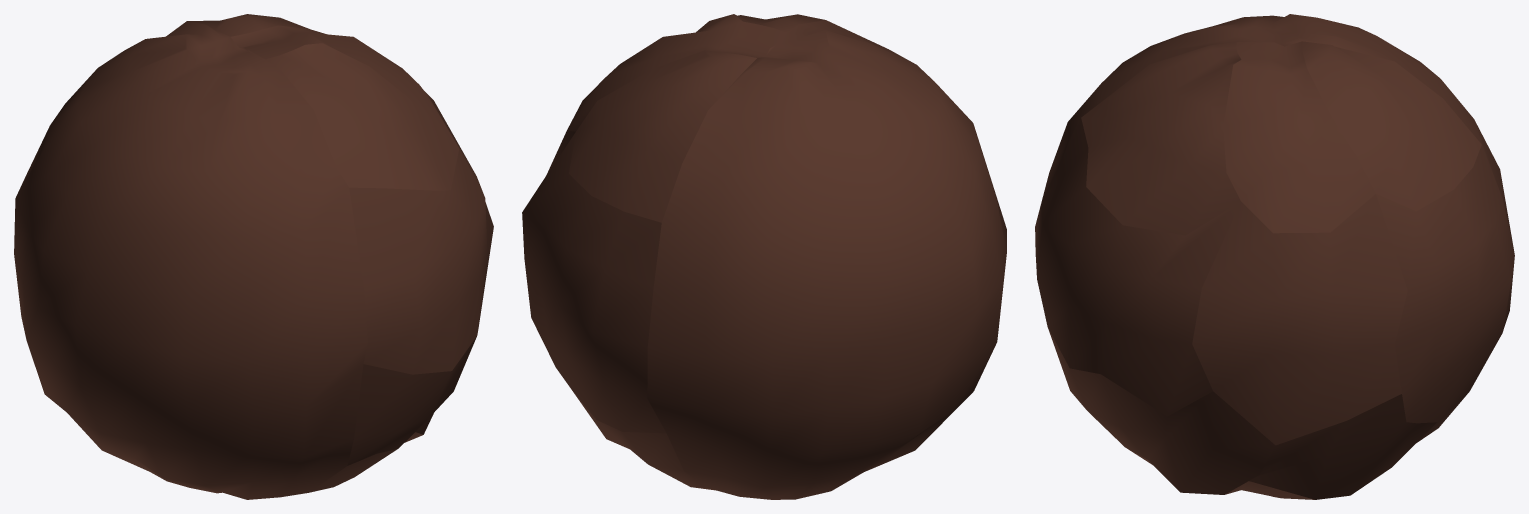
Rendered from CrystalGeode.fbx.
3 renders of one model, left to right at view 1: azimuth 30°, elevation 25°; view 2: azimuth 150°, elevation 25°; view 3: azimuth 270°, elevation 25°, orthographic.
Visible parts, largest first — view 1: Cristal, Morceau6, Morceau3, Morceau8, Morceau2, Morceau1, Morceau9; view 2: Cristal, Morceau4, Morceau1, Morceau2, Morceau7, Morceau3; view 3: Morceau5, Morceau6, Morceau4, Morceau3, Morceau2, Morceau1, Morceau8, Cristal, Morceau7, Morceau9.
Boxes of the visible parts, <box> form: Cristal: <box>14,21,367,499</box>; Morceau6: <box>349,113,493,374</box>; Morceau3: <box>266,43,459,190</box>; Morceau8: <box>347,336,476,465</box>; Morceau2: <box>231,25,432,99</box>; Morceau1: <box>187,14,308,36</box>; Morceau9: <box>309,432,422,492</box>; Cristal: <box>647,20,1006,499</box>; Morceau4: <box>522,132,665,433</box>; Morceau1: <box>569,50,756,222</box>; Morceau2: <box>567,14,786,131</box>; Morceau7: <box>571,389,705,487</box>; Morceau3: <box>696,14,824,32</box>; Morceau5: <box>1192,194,1407,445</box>; Morceau6: <box>1035,118,1240,416</box>; Morceau4: <box>1376,145,1514,423</box>; Morceau3: <box>1081,42,1241,235</box>; Morceau2: <box>1223,41,1375,233</box>; Morceau1: <box>1302,41,1481,211</box>; Morceau8: <box>1048,328,1275,494</box>; Cristal: <box>1035,14,1514,253</box>; Morceau7: <box>1249,392,1468,499</box>; Morceau9: <box>1127,448,1314,499</box>.
Bounding box in the file's own units: 491 × 488 × 490.
